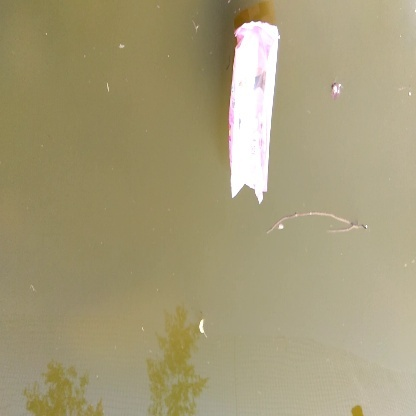plastic-bag: (222, 20, 282, 204)
